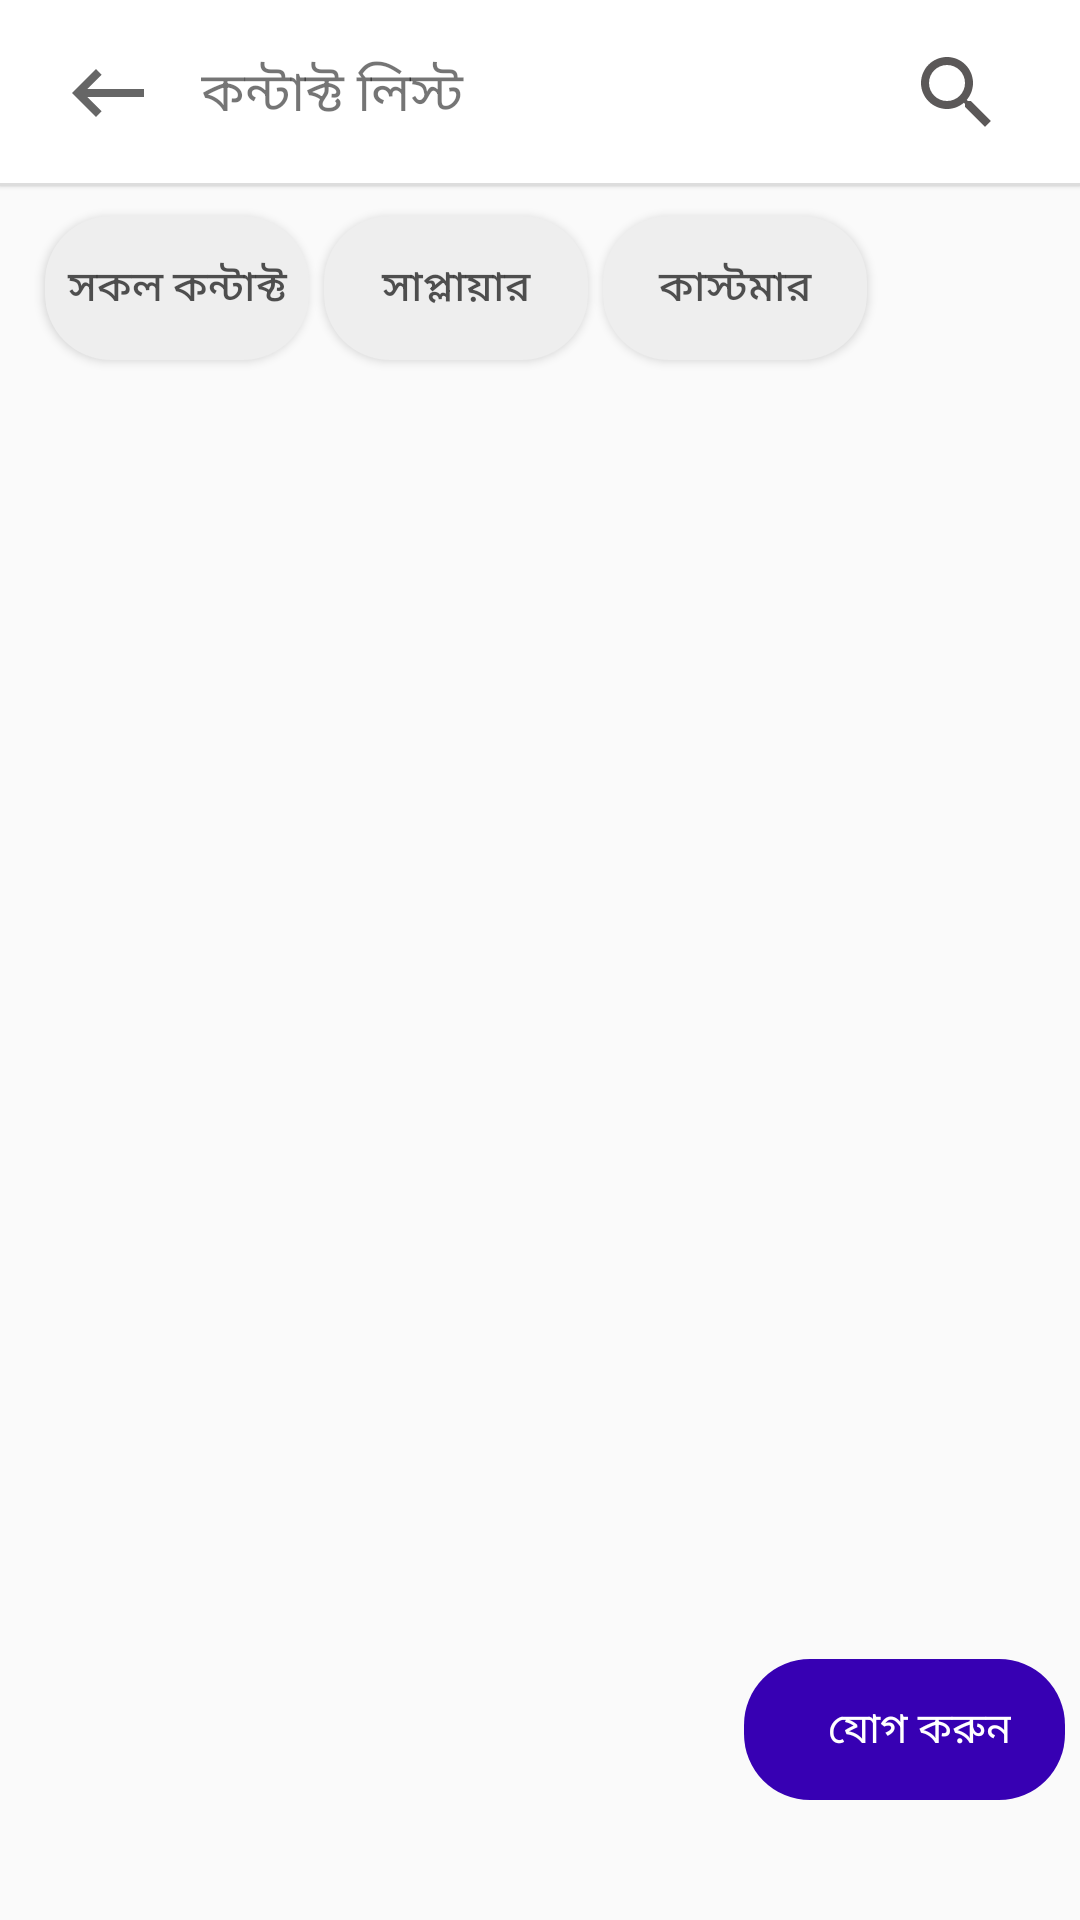

Icon bounding boxes for this 1080px x 1920px phone screenshot, format Rect(x1, y1, x2, y2):
back: Rect(72, 69, 144, 117)
search: Rect(921, 57, 991, 127)
